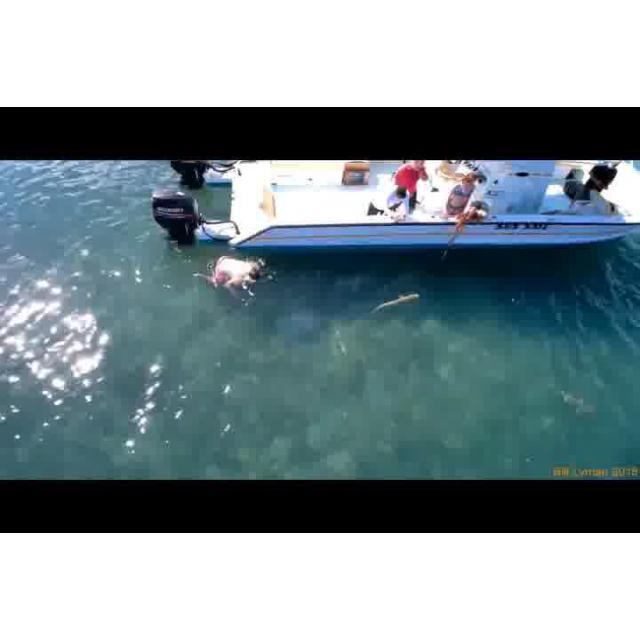human: (198, 256, 272, 301)
